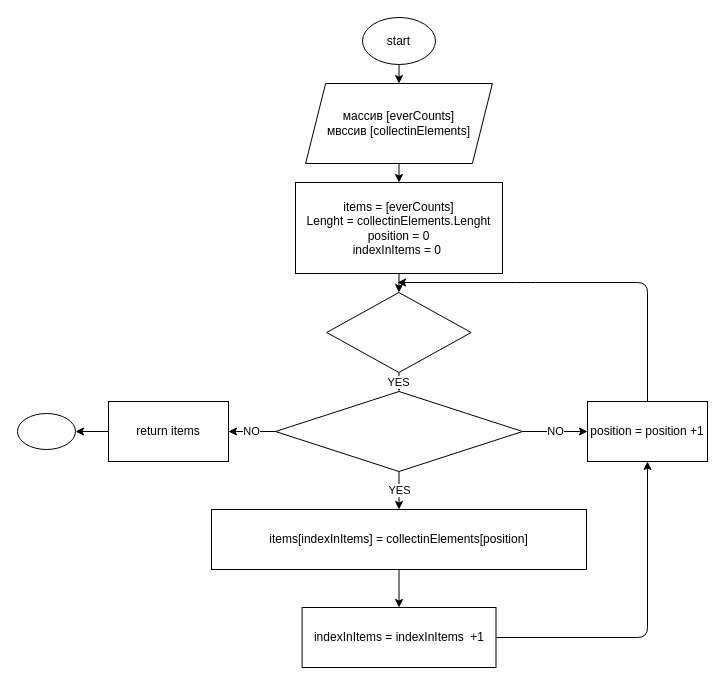
Image size: 725x685. Some labels were removed from this diagram. Each missing label, with the centre of its shape:
collectinElements[position] % 2 == 0: the point at 398,431
End: the point at 46,431
position < lenght: the point at 398,332
